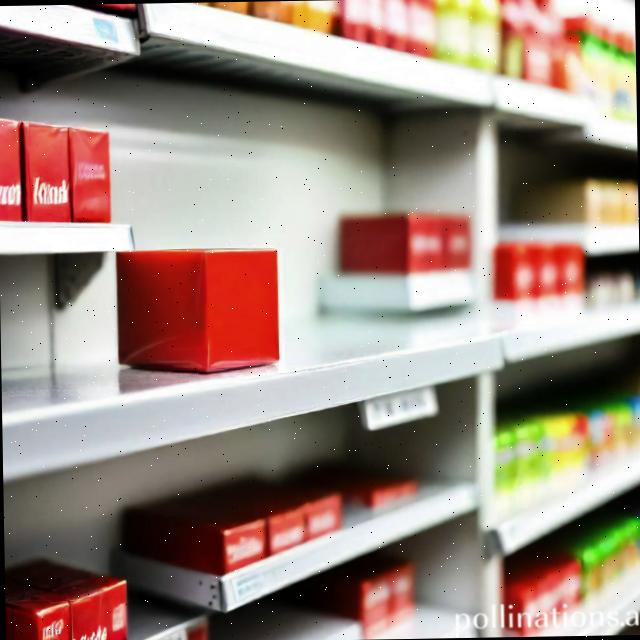red_block: (119, 247, 285, 376)
